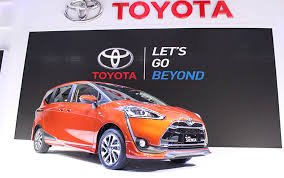mobil: (33, 81, 224, 170)
